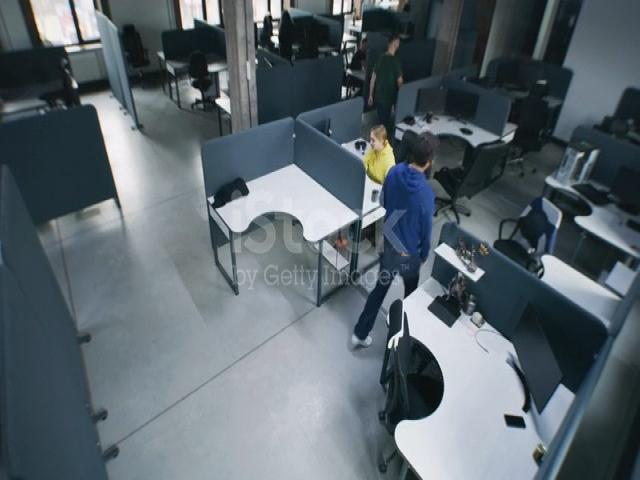empty chair: (379, 294, 439, 462), (438, 121, 508, 203), (507, 189, 556, 288), (180, 46, 228, 114), (44, 55, 97, 114), (118, 19, 158, 93), (519, 68, 551, 153), (603, 100, 640, 143)
occupiedchair: (363, 197, 422, 239), (336, 55, 371, 97)
